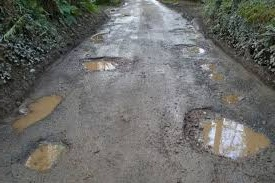pothole: (168, 105, 268, 157), (7, 90, 62, 134), (22, 136, 66, 172), (78, 55, 126, 72), (213, 90, 249, 103), (89, 30, 109, 45), (173, 46, 206, 55), (196, 60, 218, 71), (209, 70, 224, 81), (169, 27, 192, 34)
